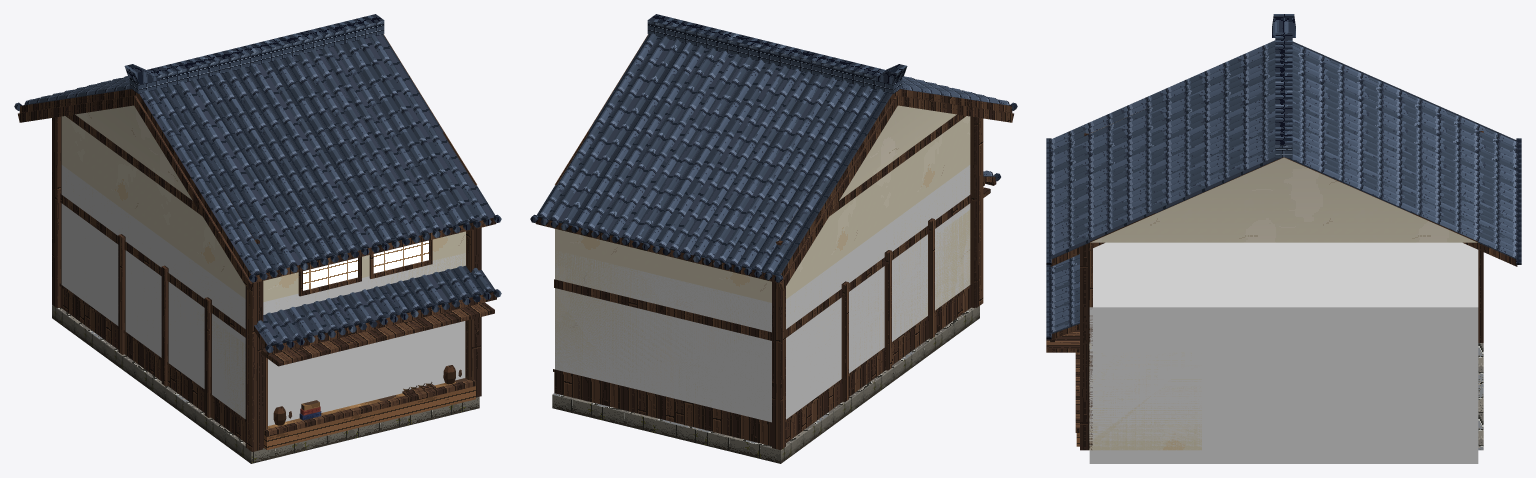
The model's file is JP_Row_Shop_A_L.glb.
3 views of the same model, side by side, from view 1: azimuth 30°, elevation 25°; view 2: azimuth 150°, elevation 25°; view 3: azimuth 270°, elevation 25° (orthographic).
Visible parts, largest first — view 1: JP_Row_Shop_A_L, COL_JP_Row_Shop_A_L; view 2: JP_Row_Shop_A_L, COL_JP_Row_Shop_A_L; view 3: JP_Row_Shop_A_L, COL_JP_Row_Shop_A_L.
Part boxes in pixels (x1,y1,x2,y2): JP_Row_Shop_A_L: (14, 14, 501, 463); COL_JP_Row_Shop_A_L: (61, 165, 465, 425); JP_Row_Shop_A_L: (530, 14, 1017, 463); COL_JP_Row_Shop_A_L: (555, 165, 970, 422); JP_Row_Shop_A_L: (1046, 14, 1521, 450); COL_JP_Row_Shop_A_L: (1089, 242, 1478, 463).
Bounding box in the file's own units: 6.8 × 8.36 × 11.
Materials: 15 (15 with a texture image).
